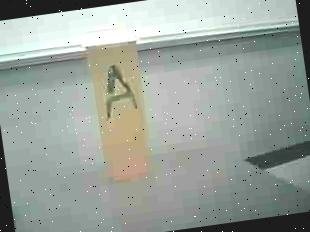Bottle A: (83, 29, 149, 180)
